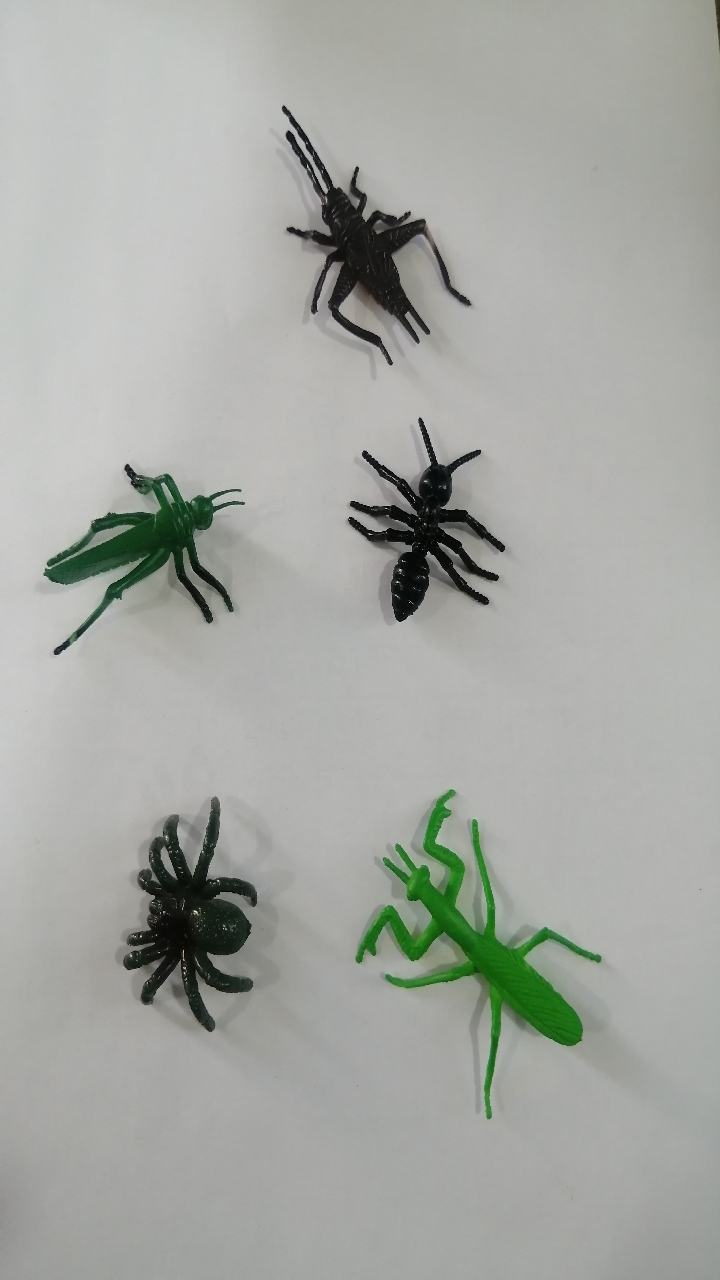intruso: (329, 759, 617, 1135), (252, 55, 486, 394), (14, 426, 274, 685), (89, 766, 283, 1066), (335, 394, 524, 677)
